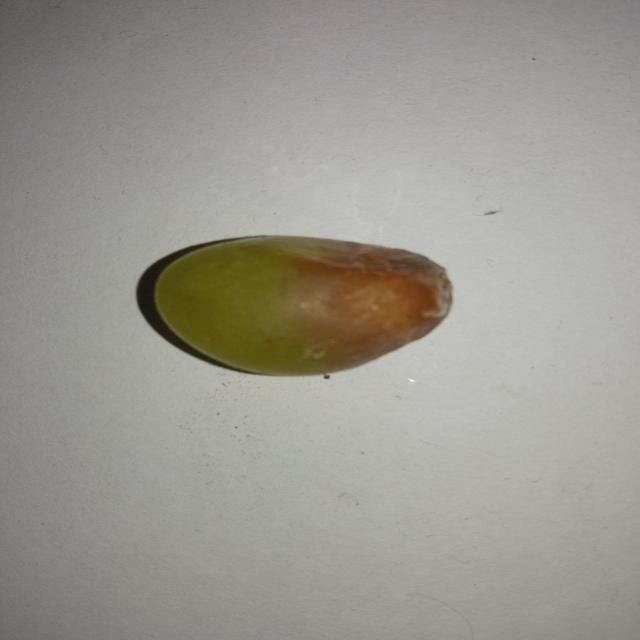rotten_grape: (155, 238, 437, 372)
